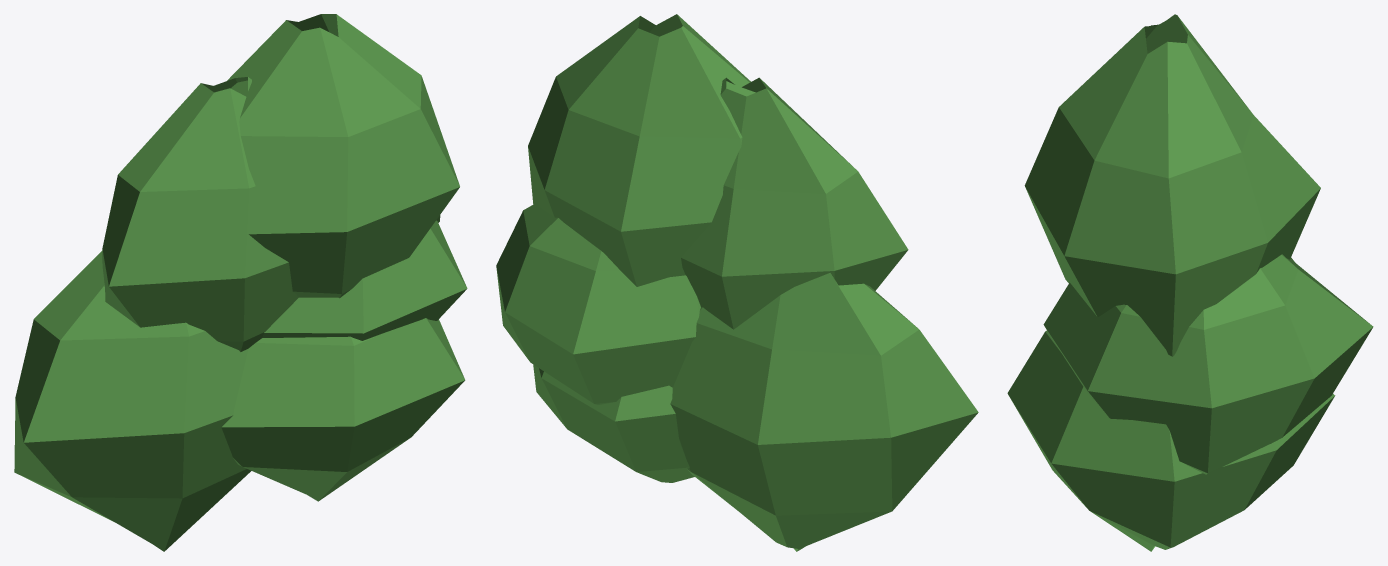
The model's file is bush_01.glb.
The picture shows the model from 3 angles, left to right: view 1: azimuth 30°, elevation 25°; view 2: azimuth 150°, elevation 25°; view 3: azimuth 270°, elevation 25°; orthographic projection. The views are drawn at different scales.
Visible parts, largest first — view 1: BUSH_01; view 2: BUSH_01; view 3: BUSH_01.
Part boxes in pixels (left/top/right/bottom): BUSH_01: left=14, top=14, right=467, bottom=551; BUSH_01: left=496, top=14, right=978, bottom=551; BUSH_01: left=1007, top=14, right=1373, bottom=551.
Bounding box in the file's own units: 2.07 × 2.19 × 1.31.
